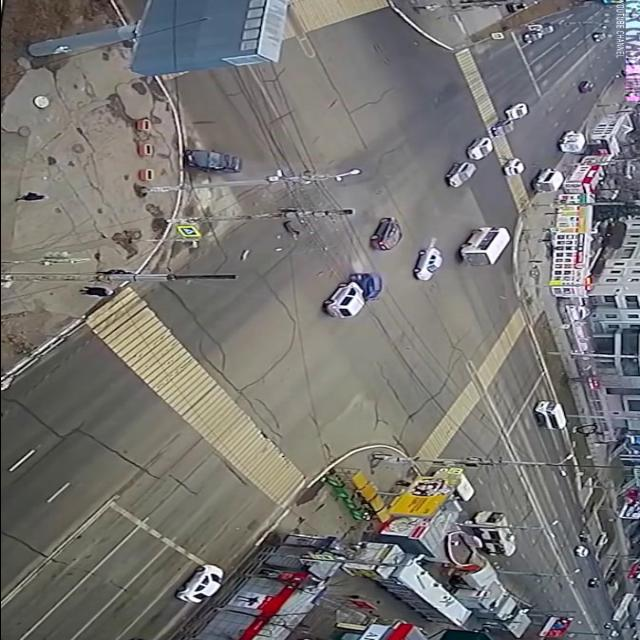accident: (317, 269, 387, 323), (157, 143, 256, 181)
